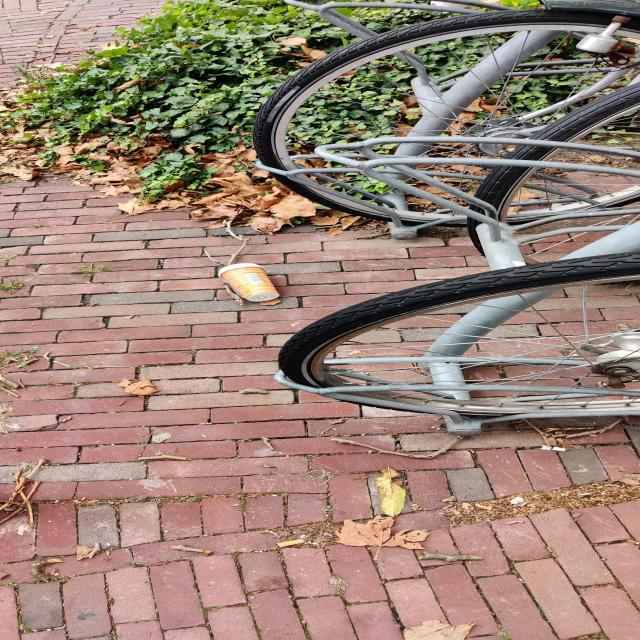litter: (221, 268, 278, 302), (217, 264, 264, 277), (540, 445, 566, 452)
